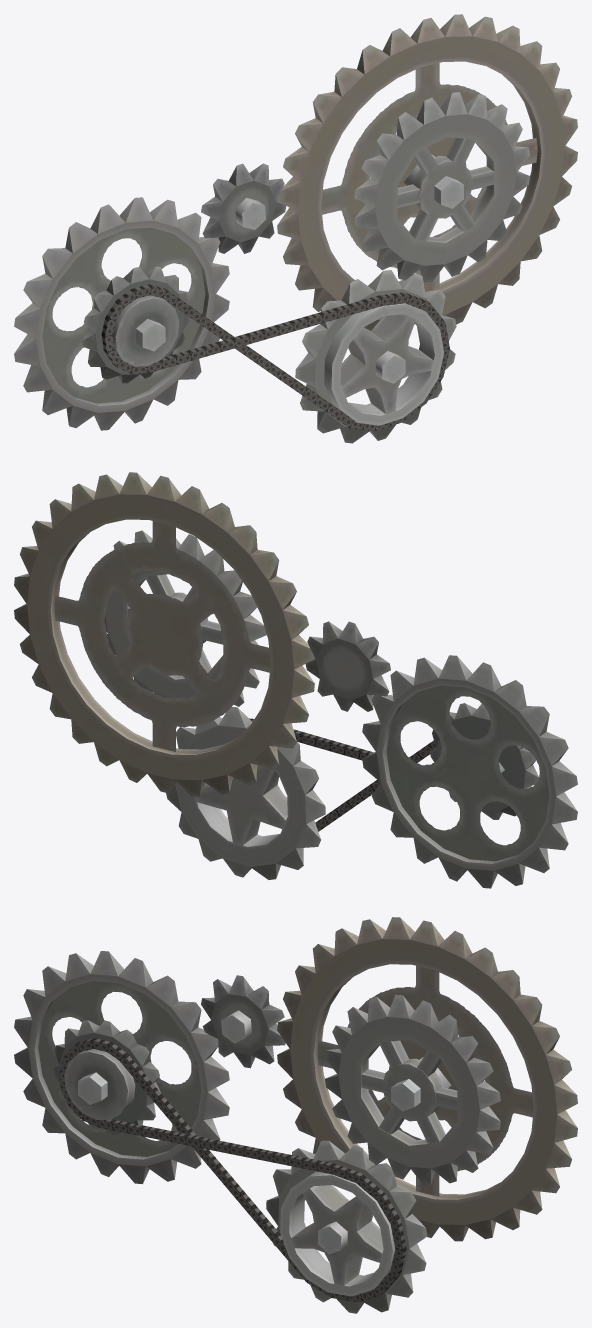
The picture shows the model from 3 angles, top to bottom: view 1: azimuth 30°, elevation 25°; view 2: azimuth 150°, elevation 25°; view 3: azimuth 330°, elevation 25°; orthographic projection.
Bounding box in the file's own units: 14.66 × 9.83 × 1.62.
Materials: 2 (2 with a texture image).
